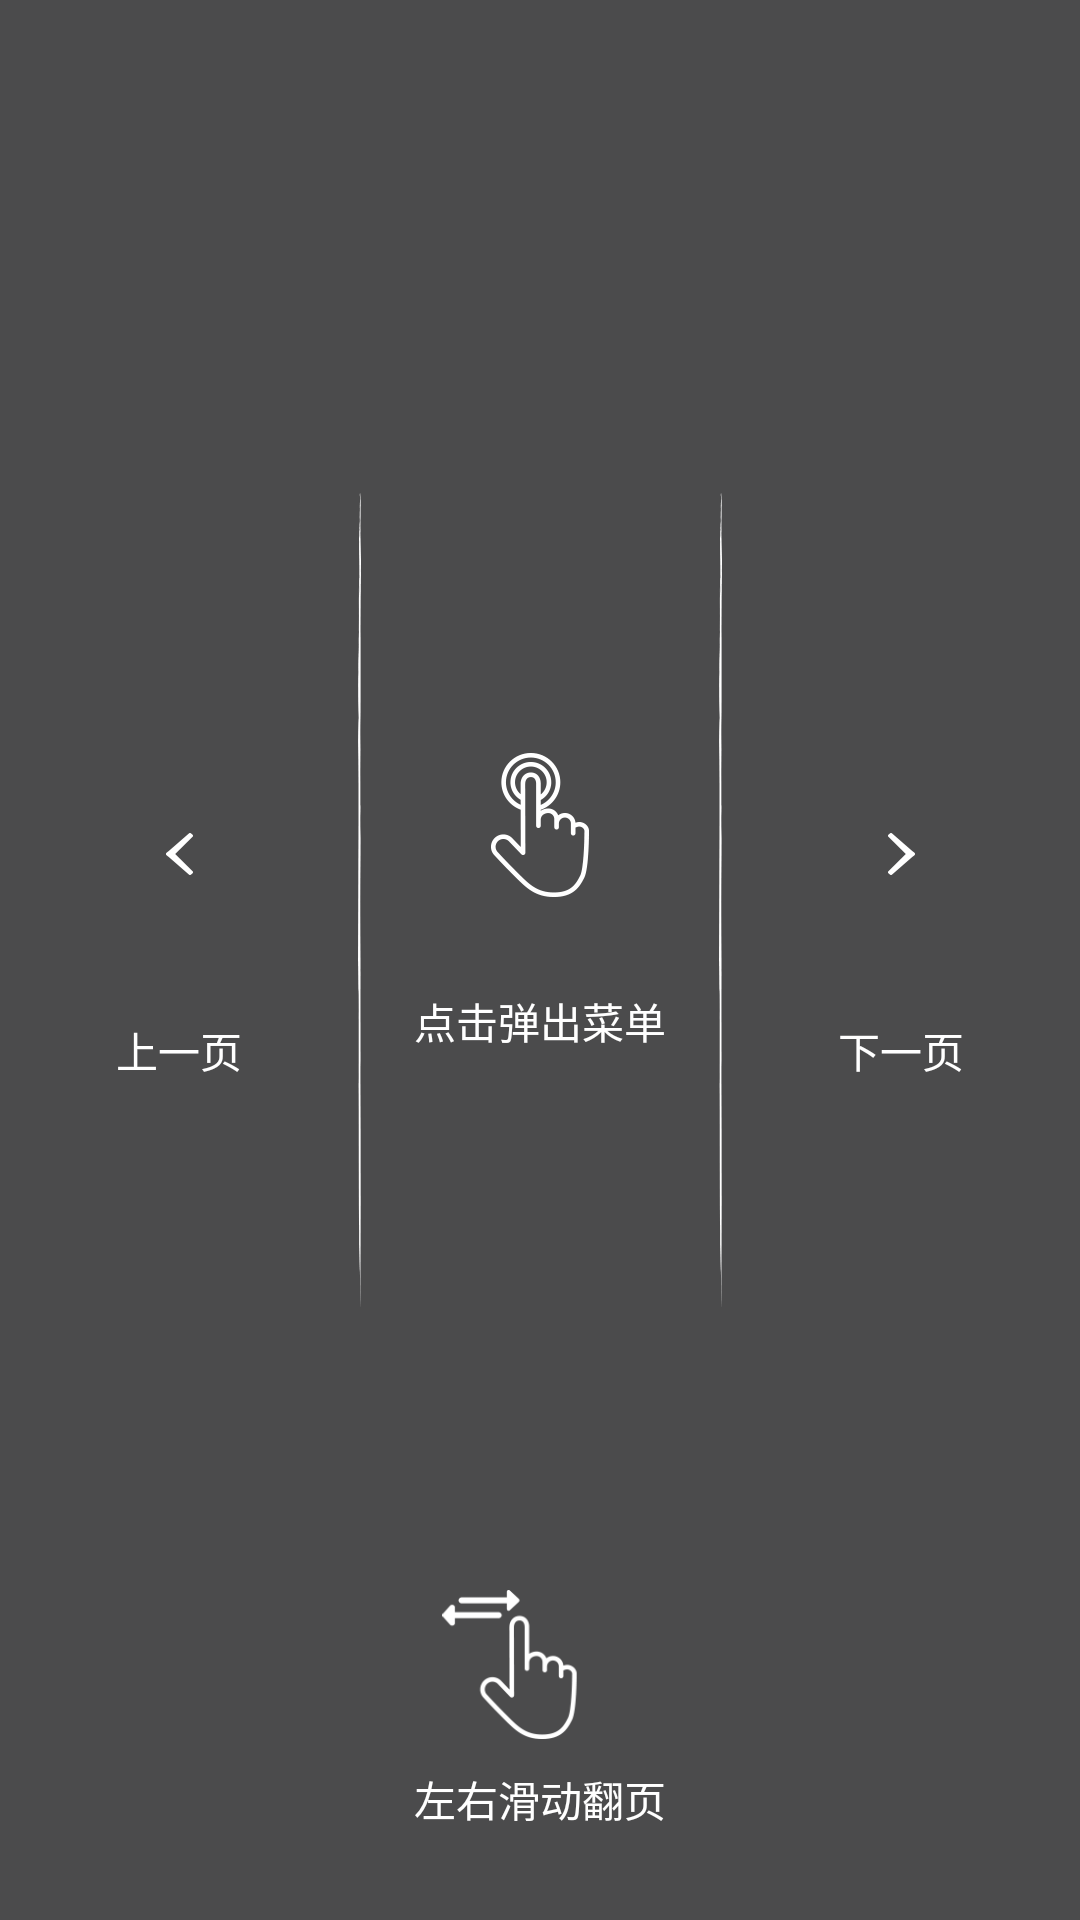

Point at icon controls on the screen. Image size 1080×1920, points as (x=x, y=y).
read page guide middle: (x=540, y=825)
read page guide next: (x=901, y=854)
read page guide pre: (x=179, y=854)
